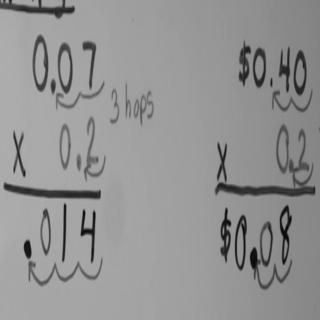.: (21, 239, 34, 259), (48, 75, 57, 94)
0: (31, 34, 49, 93), (56, 41, 73, 96), (56, 123, 73, 172), (37, 208, 53, 257), (258, 220, 274, 267), (275, 124, 290, 174), (251, 45, 268, 89), (292, 50, 308, 96), (234, 215, 246, 271)
1: (60, 202, 67, 264)
2: (85, 116, 100, 166), (296, 127, 312, 173)
3: (108, 87, 121, 126)
4: (78, 206, 96, 264), (277, 45, 291, 94)
7: (81, 38, 97, 90)
8: (278, 205, 291, 265)
